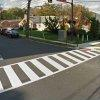Crosswalk: (4, 43, 94, 87)
